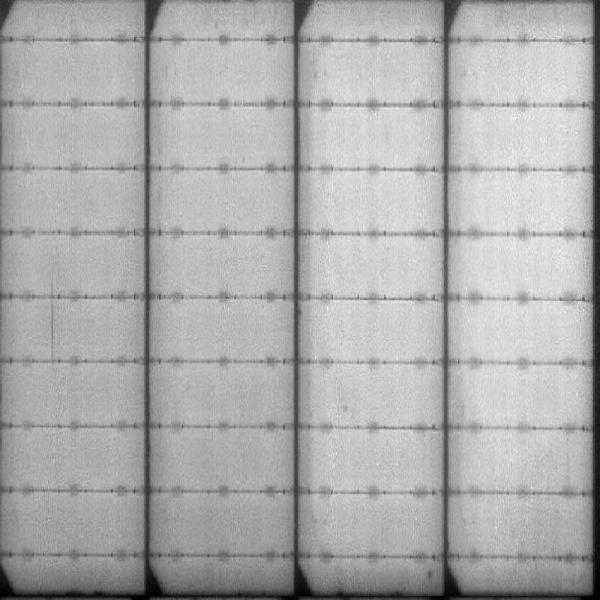scratch: (45, 278, 59, 365)
